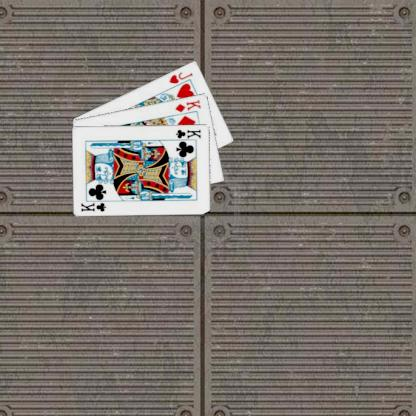JH: (166, 69, 194, 85)
KC: (79, 196, 110, 213), (171, 127, 202, 142)
KD: (172, 97, 203, 113)
